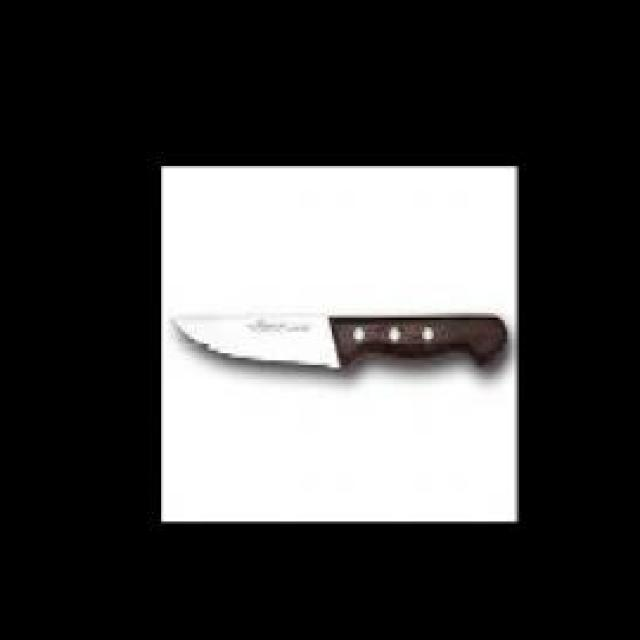knife: (163, 306, 514, 370)
